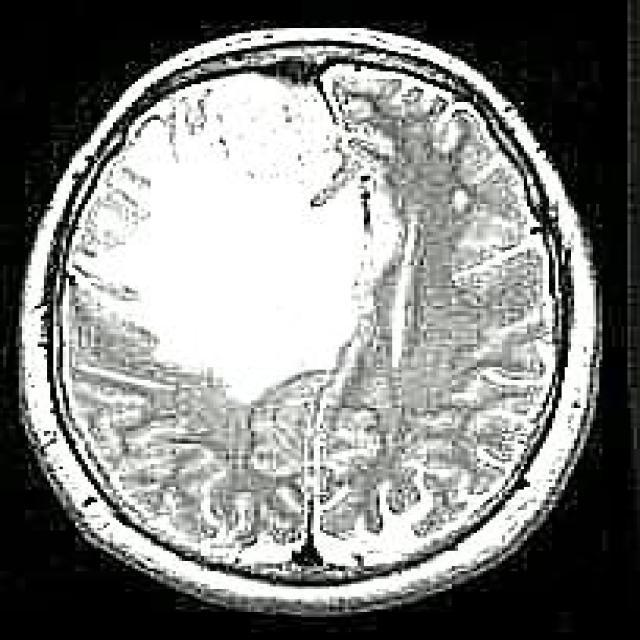brain tumor: (72, 76, 402, 405)
